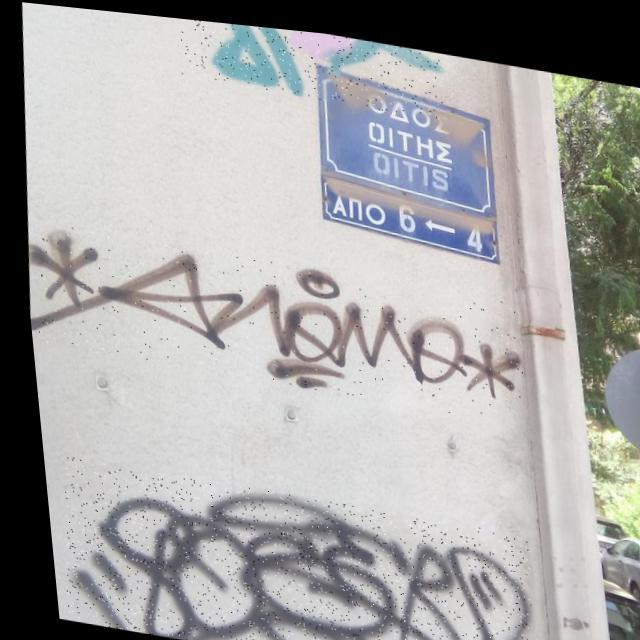-: (16, 218, 528, 416), (42, 454, 530, 640), (176, 14, 446, 111)
